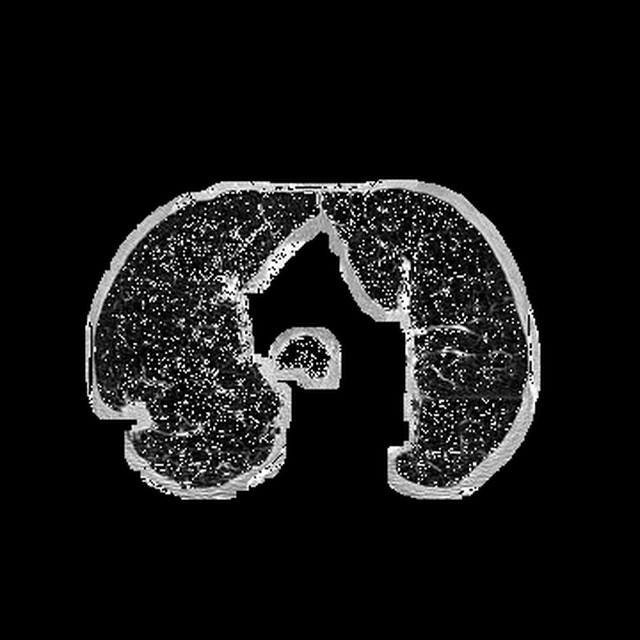PN: (119, 398, 151, 430)
